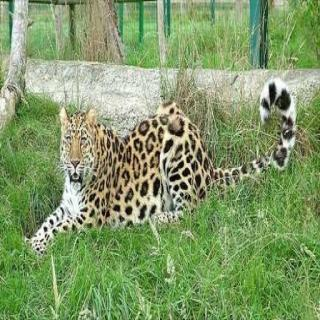Leopard: (40, 95, 320, 265)
